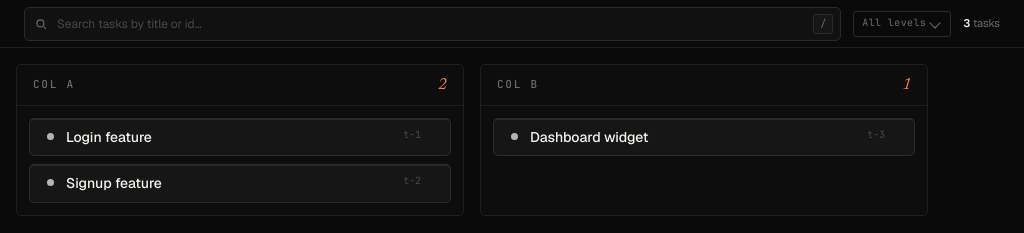
KanbanBoard › search filtering › filters cards by task title across all columns
The width and height of the screenshot is (1024, 233).
Step 1. Type "feature" into the search field labelled "Search tasks by title or id" → coordinates (433, 24), box [24,6,841,40]
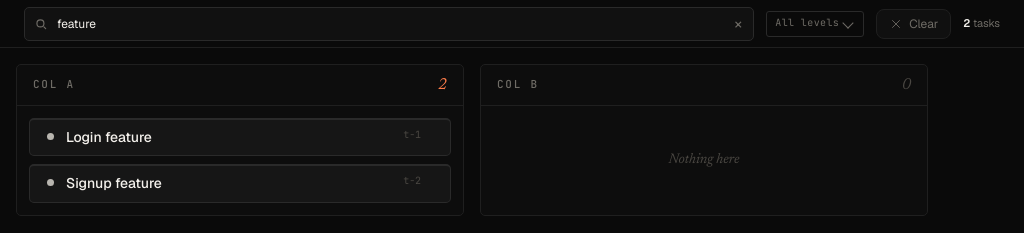
Check: the heading "Login feature" is shown, box [66,128,152,146]
Check: the button "Dashboard widget" is gone
